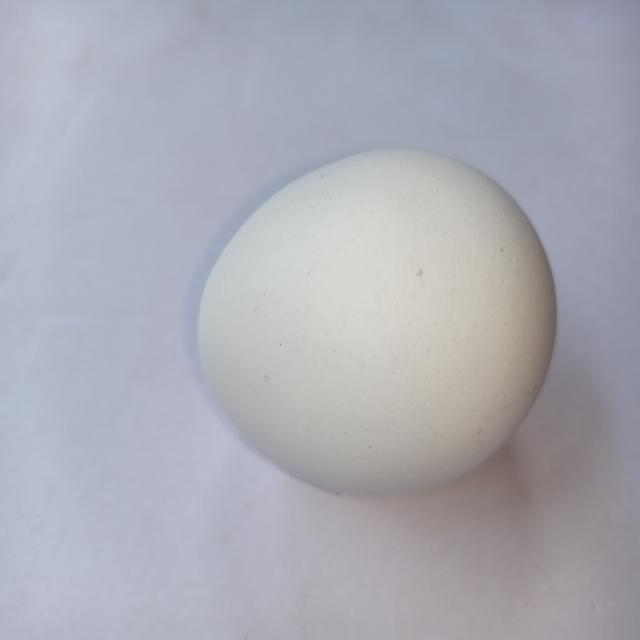Egg: (180, 118, 580, 532)
